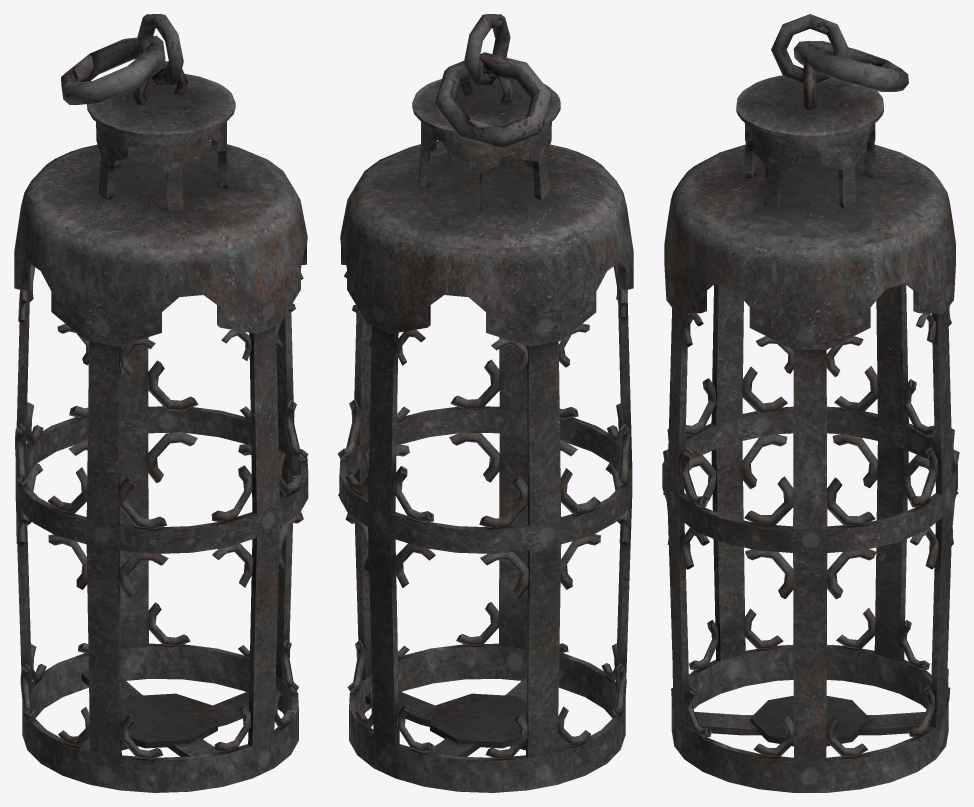
Rendered from sm_Lantern_01_03.fbx.
The picture shows the model from 3 angles, left to right: view 1: azimuth 30°, elevation 25°; view 2: azimuth 150°, elevation 25°; view 3: azimuth 270°, elevation 25°; orthographic projection.
Visible parts, largest first — view 1: sm_Lantern_01_03_LOD0; view 2: sm_Lantern_01_03_LOD0; view 3: sm_Lantern_01_03_LOD0.
Boxes of the visible parts, left/top/right/bottom form: sm_Lantern_01_03_LOD0: left=14, top=14, right=308, bottom=792; sm_Lantern_01_03_LOD0: left=337, top=14, right=633, bottom=792; sm_Lantern_01_03_LOD0: left=662, top=14, right=959, bottom=792.
Bounding box in the file's own units: 20.74 × 20.99 × 56.14.
